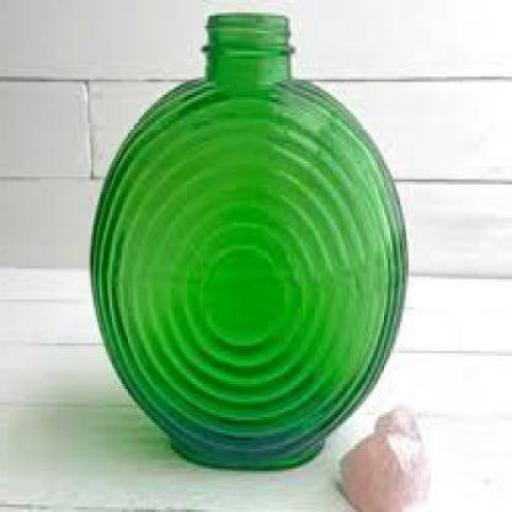glass: (92, 10, 410, 468)
